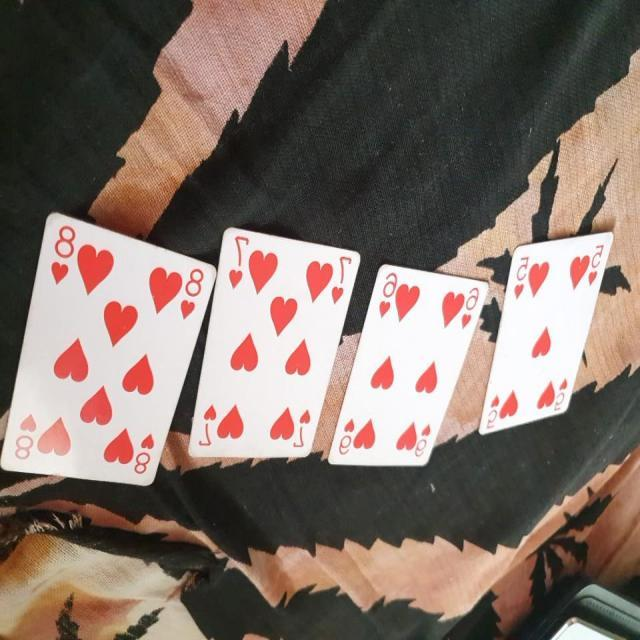5 of hearts: (473, 226, 620, 447)
6 of hearts: (324, 257, 490, 472)
7 of hearts: (184, 217, 366, 474)
8 of hearts: (1, 206, 220, 495)
